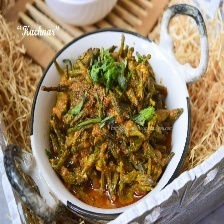sabzi: (46, 42, 184, 209)
